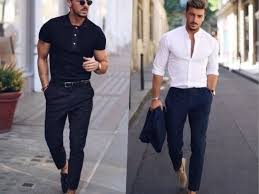F_belt: (47, 74, 93, 91)
F_dress pants: (43, 86, 105, 190), (164, 86, 214, 191)
F_shirt: (149, 26, 224, 100)
